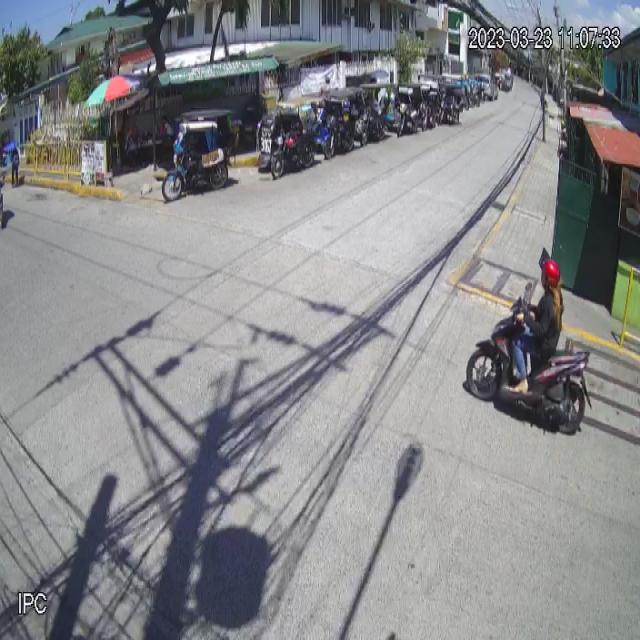Motorcycle: (466, 281, 593, 434)
Tricycle: (161, 111, 236, 205)
